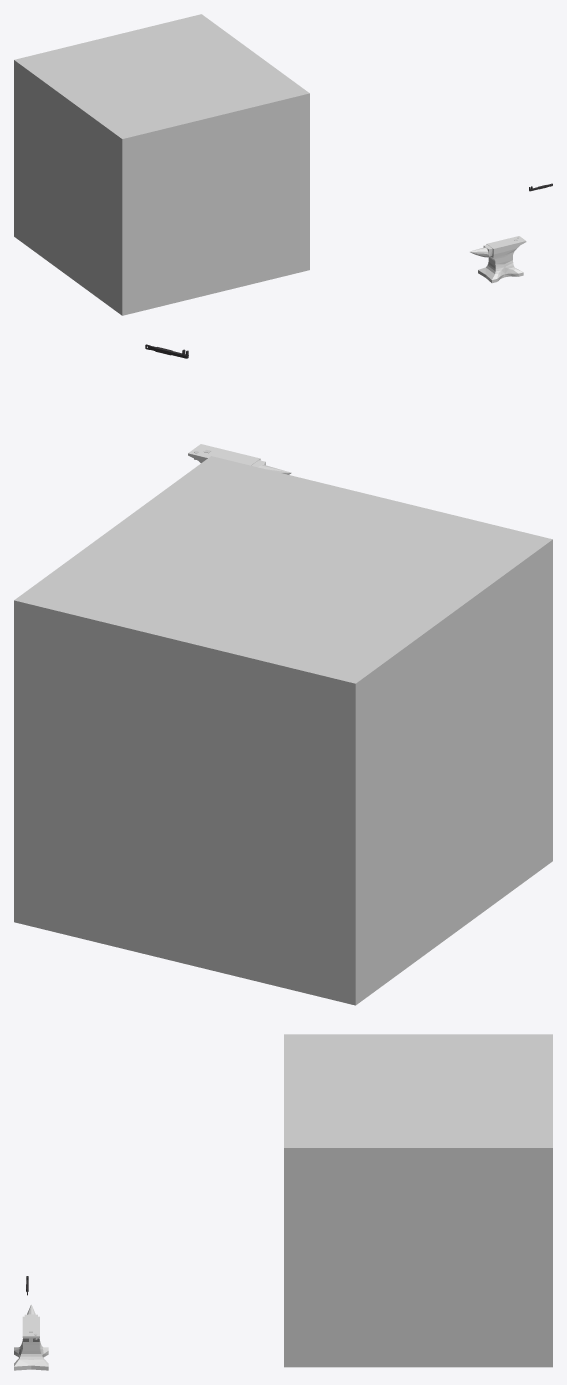
Rendered from scrollwrench.dae.
3 renders of one model, top to bottom at view 1: azimuth 30°, elevation 25°; view 2: azimuth 150°, elevation 25°; view 3: azimuth 270°, elevation 25°, orthographic. The views are drawn at different scales.
Visible parts, largest first — view 1: Cube_004, Cube_002; view 2: Cube_004, Cube_002; view 3: Cube_004, Cube_002.
Part boxes in pixels (x1=…): Cube_004: x1=14, y1=14, x2=309, y2=315; Cube_002: x1=470, y1=236, x2=526, y2=283; Cube_004: x1=14, y1=456, x2=552, y2=1005; Cube_002: x1=188, y1=444, x2=291, y2=474; Cube_004: x1=284, y1=1034, x2=552, y2=1367; Cube_002: x1=14, y1=1304, x2=48, y2=1370.
Bounding box in the file's own units: 3.49 × 4.01 × 1.8.
1 material, 1 textured.
